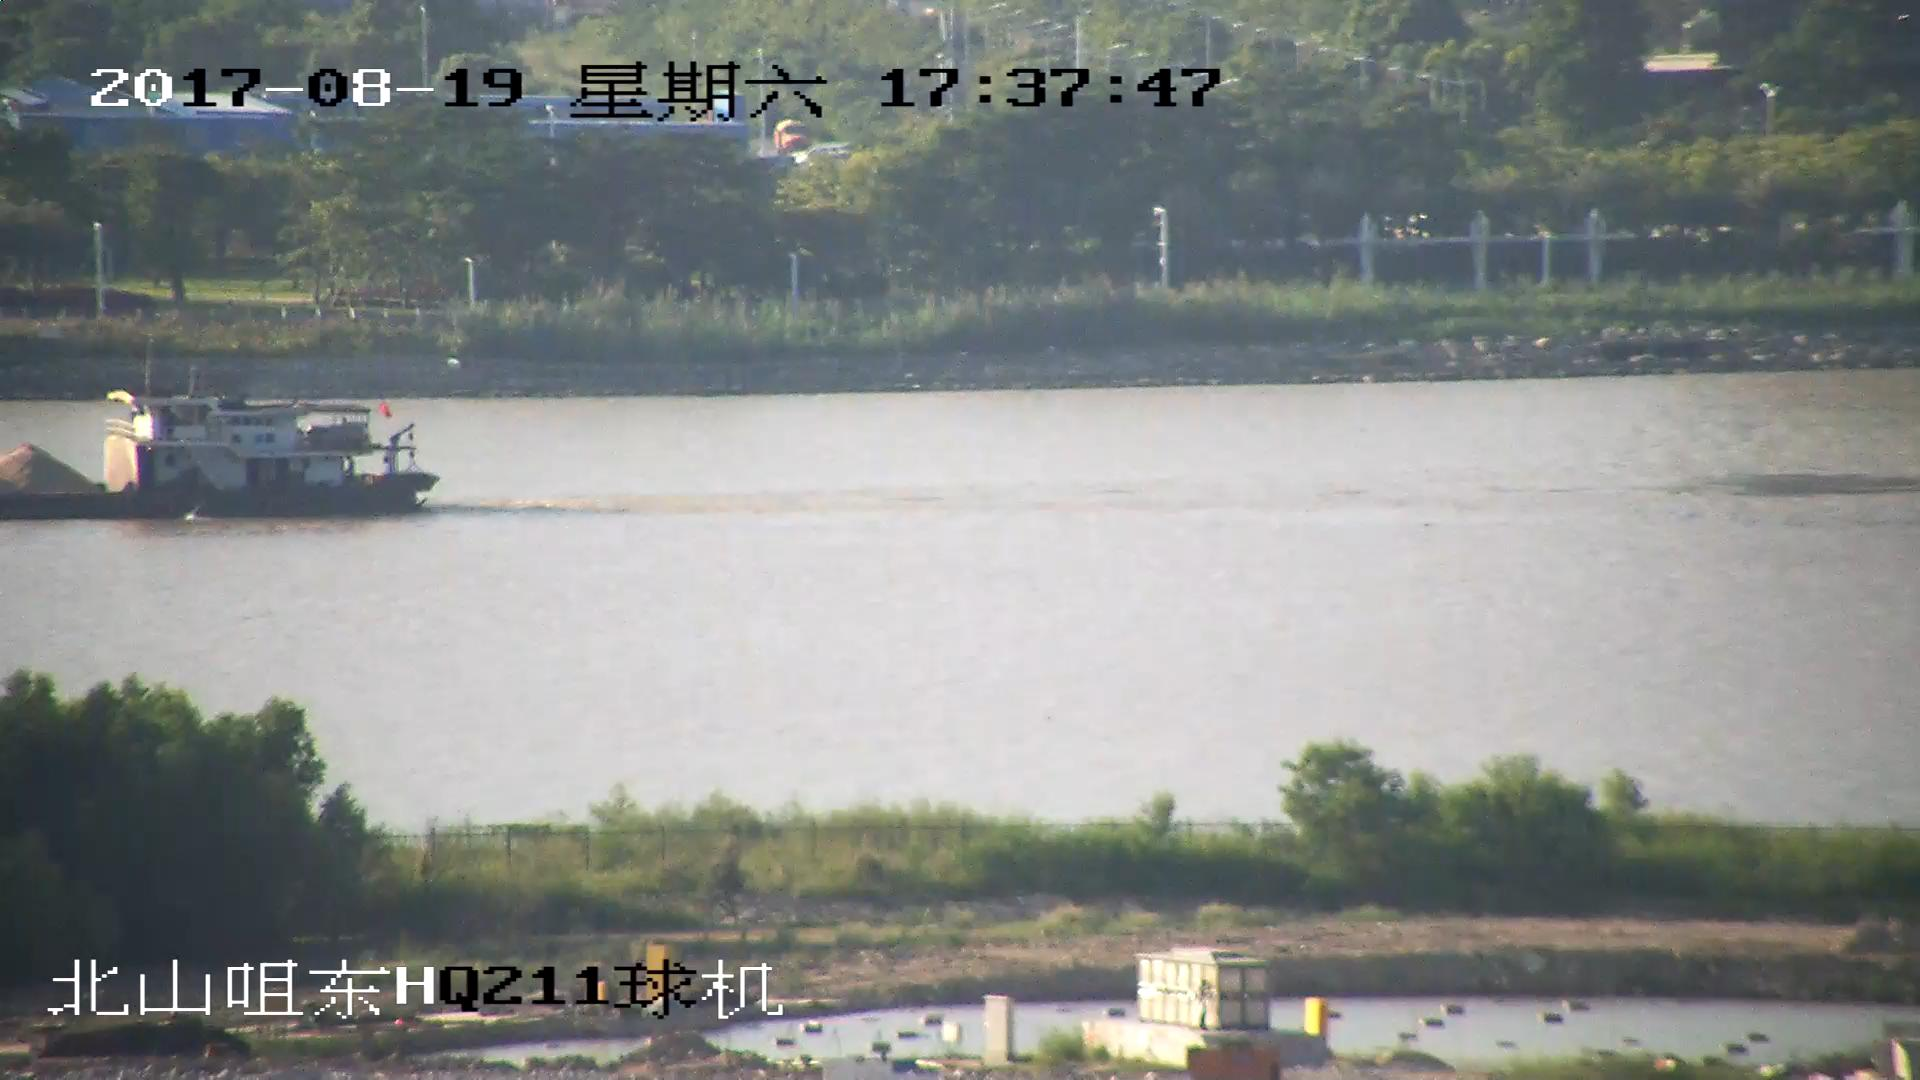ore carrier: (1, 375, 440, 520)
